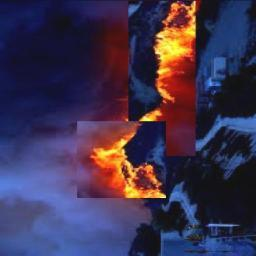Heavy smoke: (0, 0, 211, 255)
Small fire: (122, 0, 203, 145), (79, 119, 172, 201)
